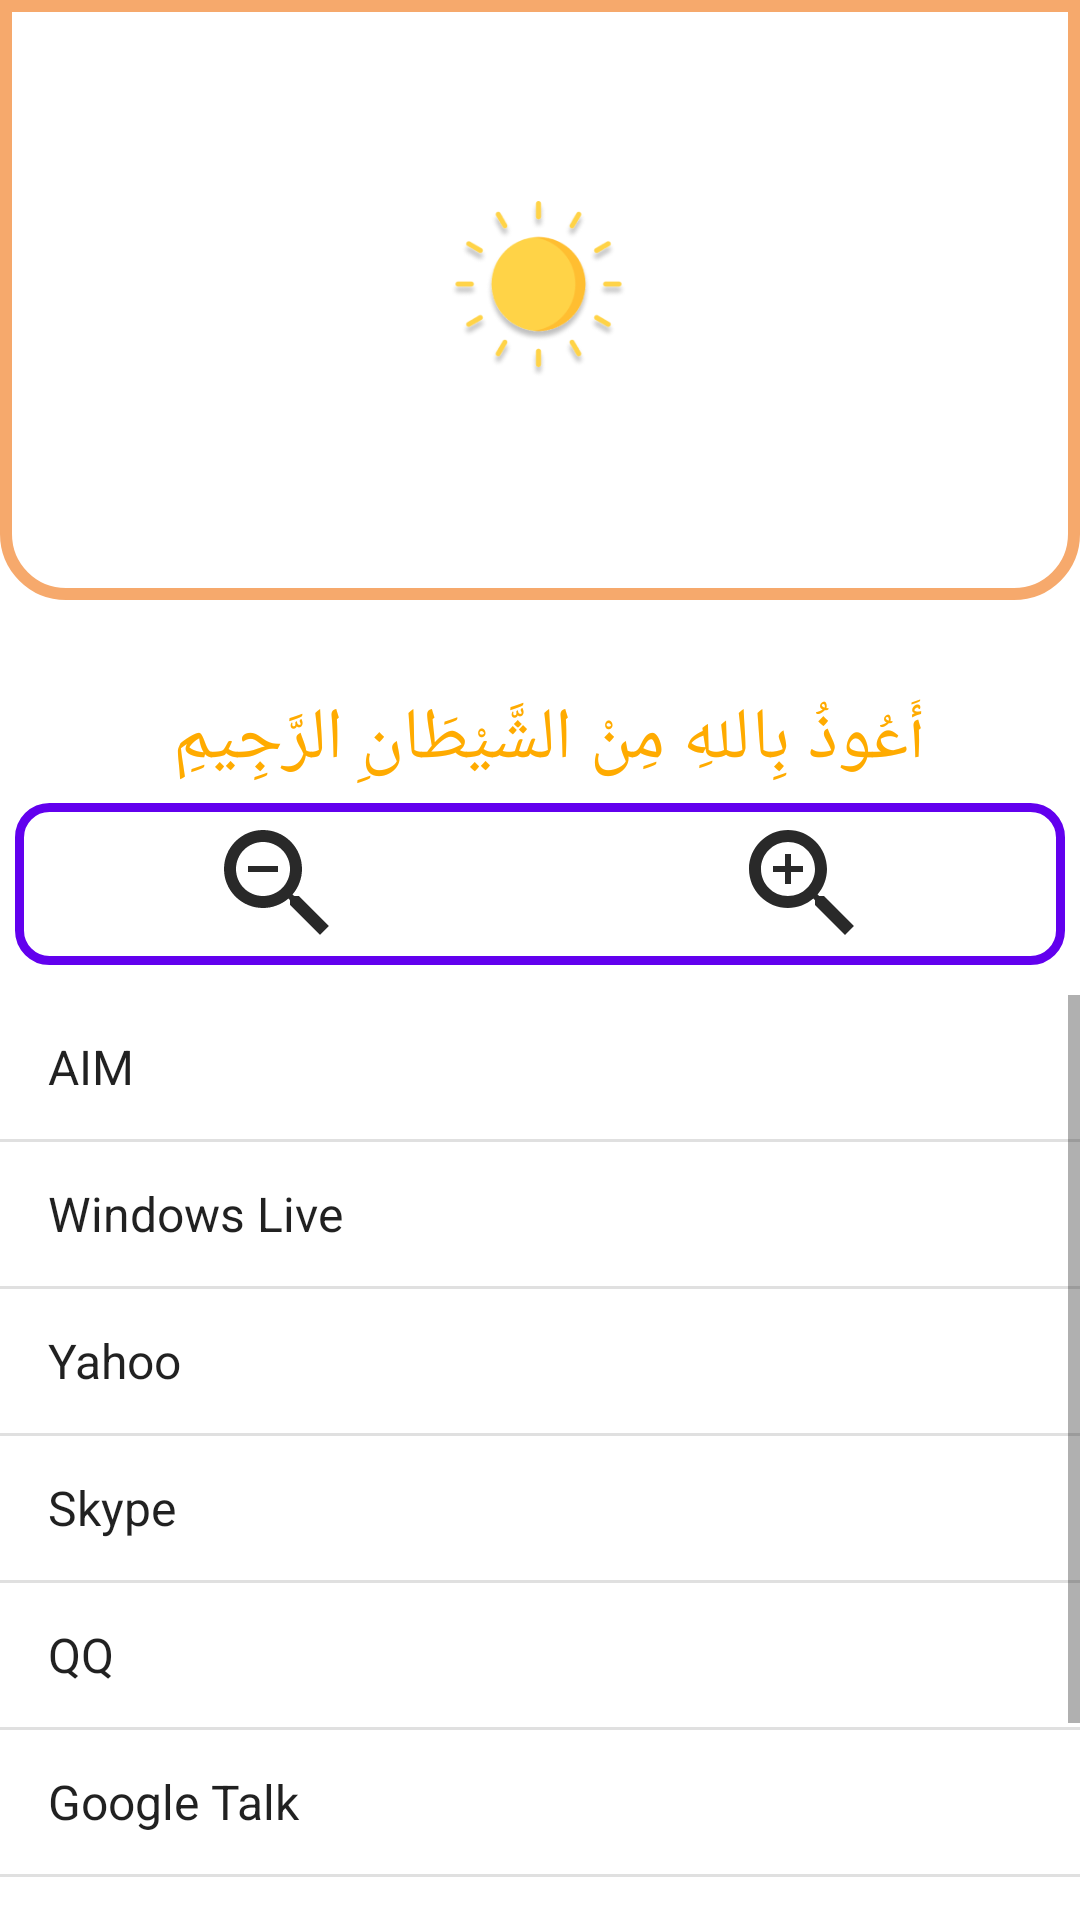

Icon click points for this 1080×1920 phone screenshot, format (x=x, y=y):
sun: (x=538, y=286)
